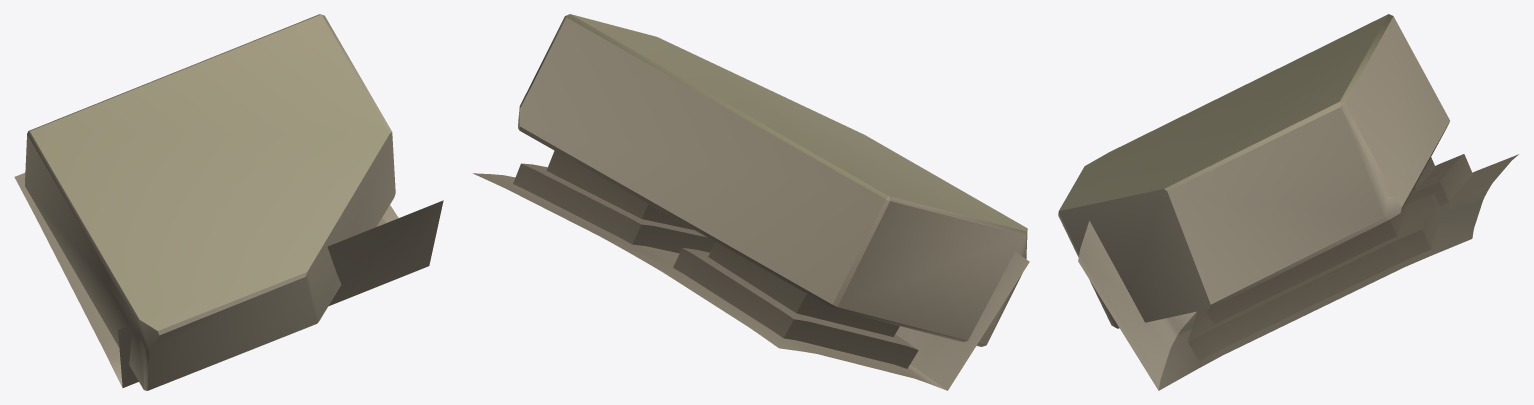
The model's file is dome_slab_mid.glb.
The picture shows the model from 3 angles, left to right: view 1: azimuth 30°, elevation 25°; view 2: azimuth 150°, elevation 25°; view 3: azimuth 270°, elevation 25°; orthographic projection. The views are drawn at different scales.
Parts seen in each view (by area): view 1: dome_slab_mid; view 2: dome_slab_mid; view 3: dome_slab_mid.
Boxes of the visible parts, <box> form: dome_slab_mid: <box>14,14,443,390</box>; dome_slab_mid: <box>473,14,1029,390</box>; dome_slab_mid: <box>1058,14,1518,390</box>.
Size of the model in its own units: 8.8 by 7.22 by 8.58.
